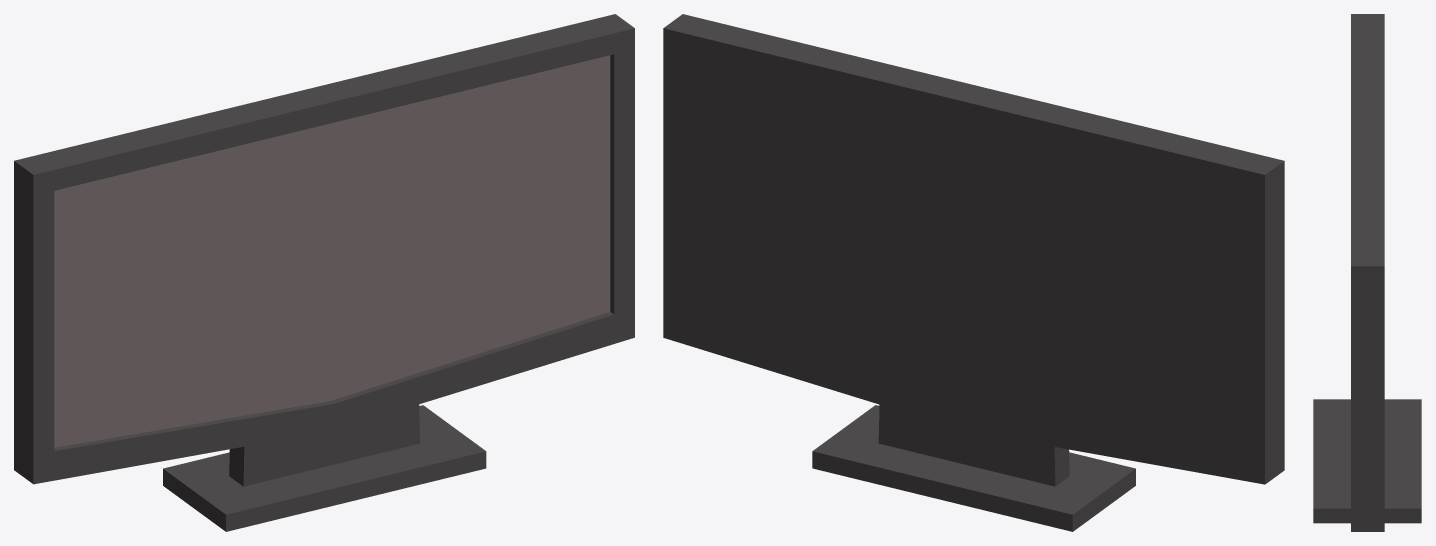
3 views of the same model, side by side, from view 1: azimuth 30°, elevation 25°; view 2: azimuth 150°, elevation 25°; view 3: azimuth 270°, elevation 25° (orthographic). The views are drawn at different scales.
Visible parts, largest first — view 1: SM_Tv_1_01; view 2: SM_Tv_1_01; view 3: SM_Tv_1_01.
Part boxes in pixels (x1,y1,x2,y2): SM_Tv_1_01: (14,14,634,531); SM_Tv_1_01: (663,14,1284,531); SM_Tv_1_01: (1313,14,1421,531).
Size of the model in its own units: 157 by 95.37 by 28.54.
